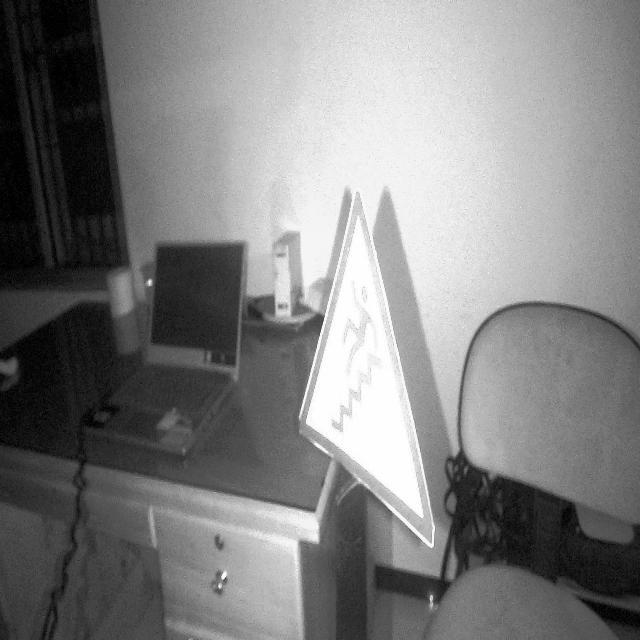Sign: (297, 186, 437, 551)
